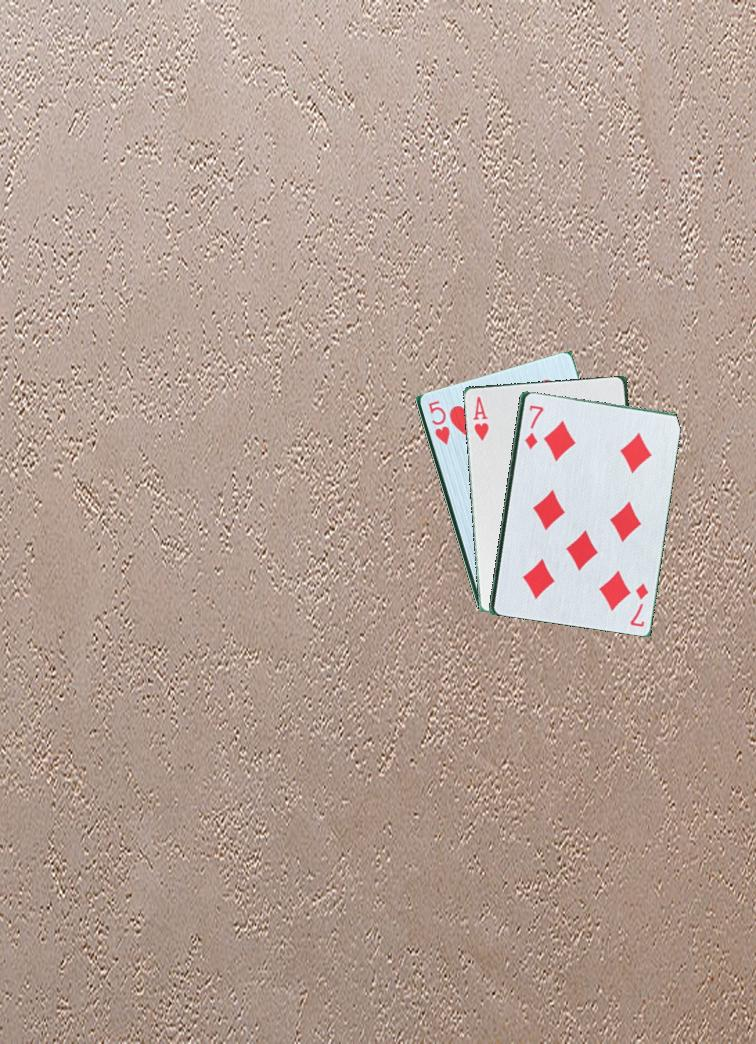5h: (424, 397, 452, 448)
7d: (626, 576, 655, 633), (521, 401, 544, 454)
ah: (469, 393, 492, 443)
